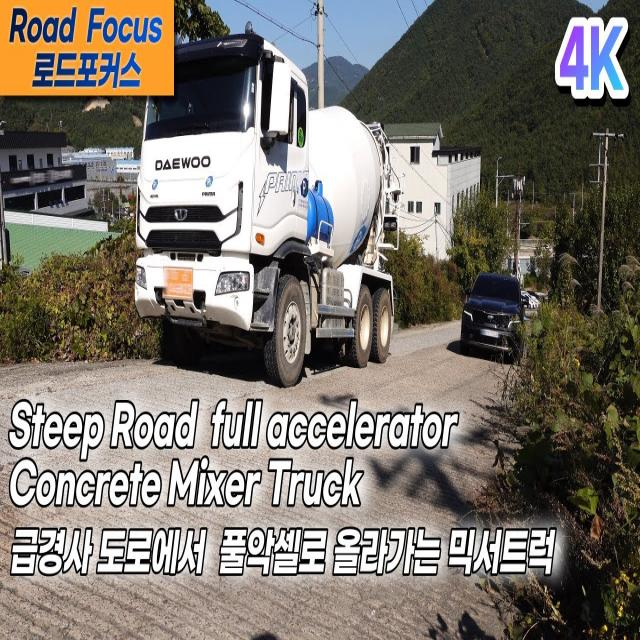Mixer Truck: (135, 33, 406, 386)
